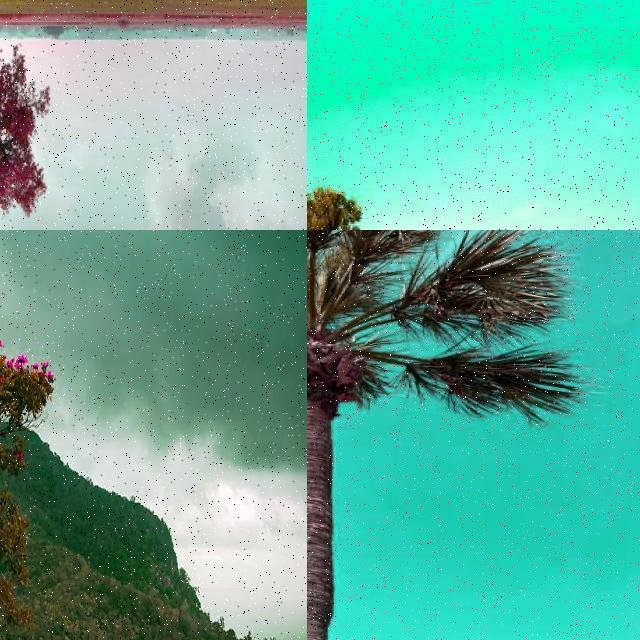tree: (307, 230, 575, 640), (0, 256, 116, 640), (0, 0, 124, 230), (0, 452, 22, 584), (308, 188, 372, 230)
